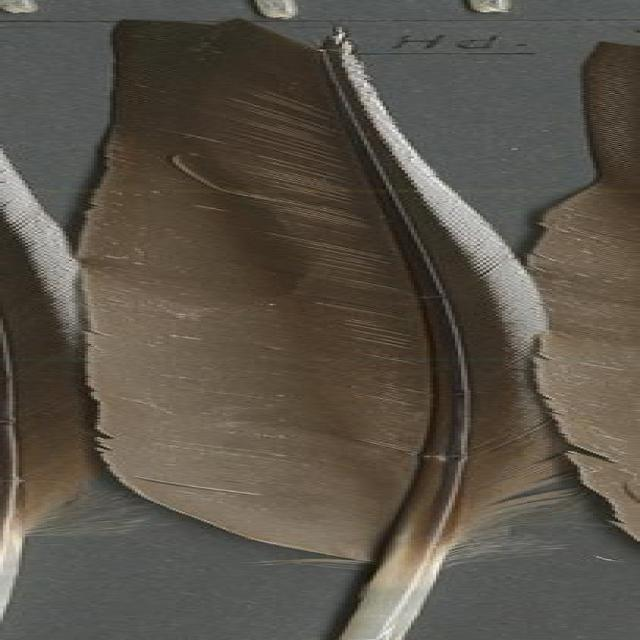feather: (63, 17, 577, 640)
